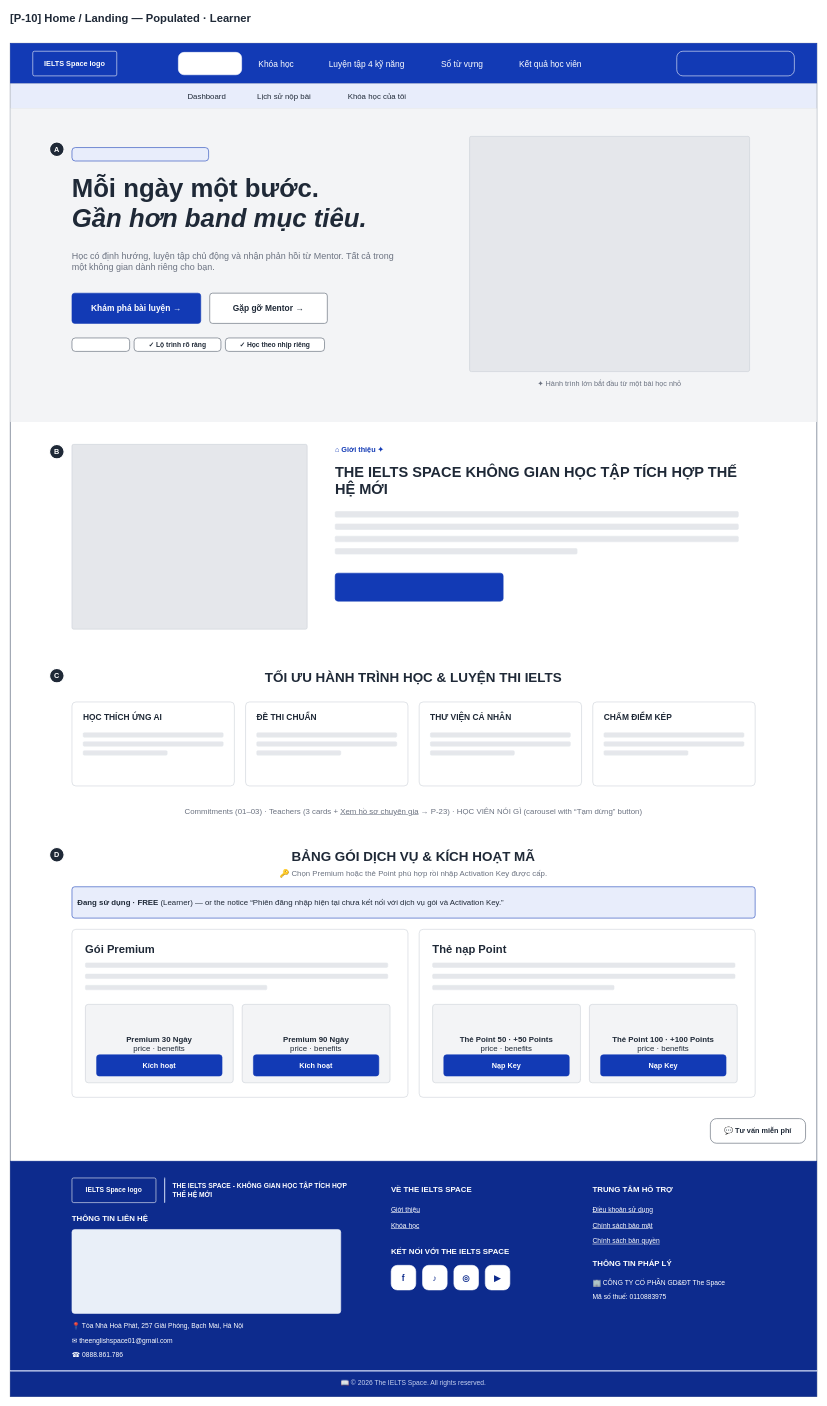
Image size: 827x1406. Some labels were removed from this diagram. Each missing label, with the box of its shape:
Trang chủ: (178, 52, 242, 75)
Xem thêm về The IELTS Space →: (335, 573, 503, 601)
▨ Hero visual: (469, 136, 750, 372)
▨ Introduction image + 4 highlights: (71, 444, 307, 629)
◯ Học viên · 30 Points ▾: (676, 51, 794, 76)
✓ 4 kỹ năng: (71, 337, 130, 351)
✦ KHÔNG GIAN HỌC IELTS CỦA BẠN: (71, 147, 209, 161)
📍 The IELTS Space Mở trong Maps ↗: (71, 1229, 341, 1313)
